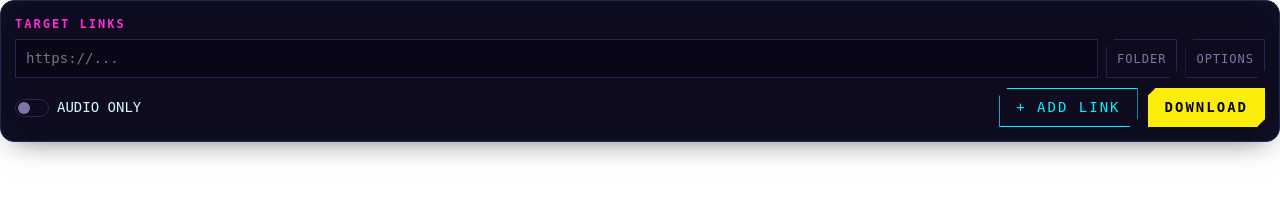
UrlInput rows › adds a new empty row and focuses it
Click the button "+ ADD LINK" at (1068, 108), box [999, 88, 1138, 127]
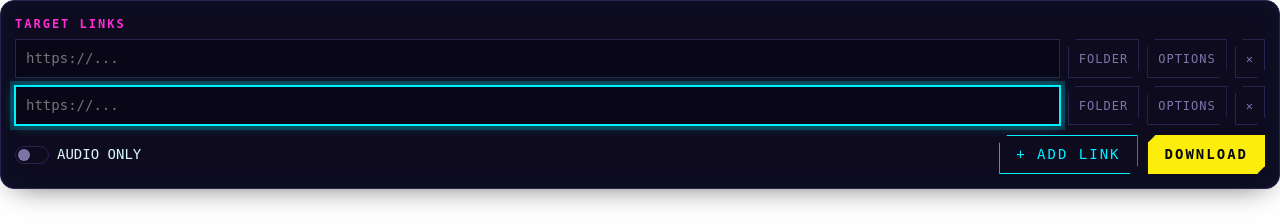
Now the field named "Link 2" is empty, box [15, 86, 1060, 125]
Now the button named "Remove link 1" is shown, box [1235, 39, 1265, 78]
Now the button named "Remove link 2" is shown, box [1235, 86, 1265, 125]
